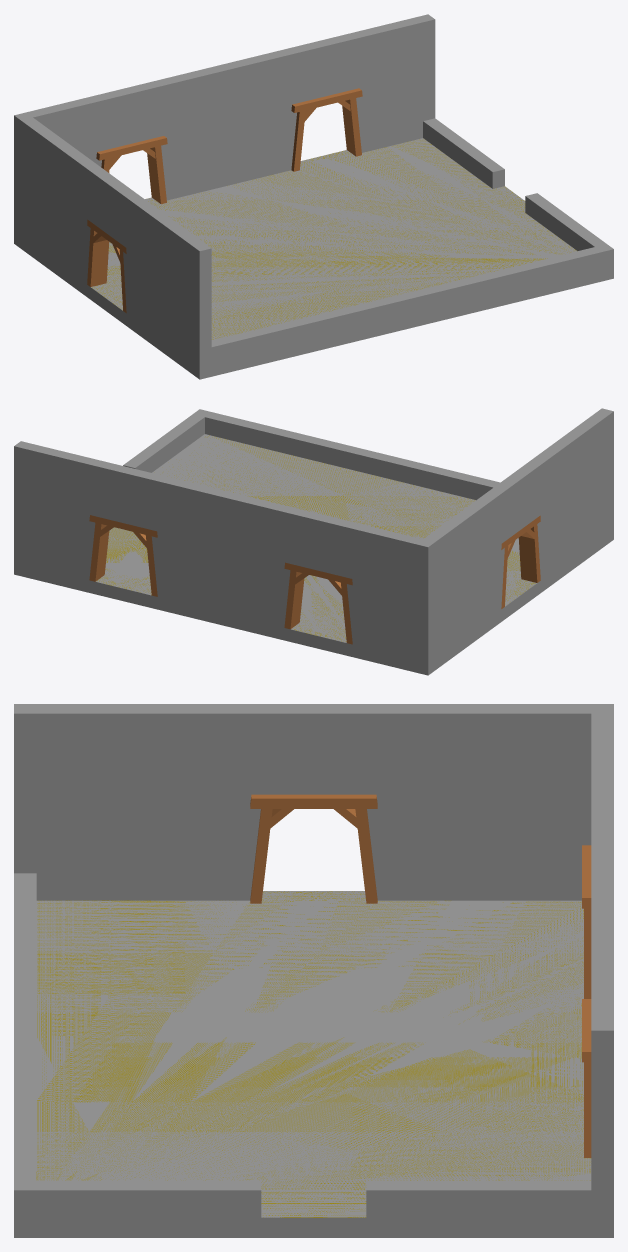
The model's file is salaMedianaTresPuertas.fbx.
The picture shows the model from 3 angles, top to bottom: view 1: azimuth 30°, elevation 25°; view 2: azimuth 150°, elevation 25°; view 3: azimuth 270°, elevation 25°; orthographic projection. The views are drawn at different scales.
Visible parts, largest first — view 1: group_1, group_2, group_4, group_3, group_0; view 2: group_1, group_2, group_4, group_3, group_0; view 3: group_2, group_1, group_0, group_4, group_3.
Boxes of the visible parts, left/top/right/bottom form: group_1: left=14, top=14, right=613, bottom=379; group_2: left=91, top=138, right=577, bottom=340; group_4: left=291, top=88, right=362, bottom=171; group_3: left=96, top=136, right=167, bottom=204; group_0: left=87, top=219, right=126, bottom=313; group_1: left=14, top=408, right=613, bottom=675; group_2: left=96, top=434, right=536, bottom=642; group_4: left=89, top=515, right=157, bottom=596; group_3: left=284, top=562, right=352, bottom=644; group_0: left=501, top=515, right=540, bottom=608; group_2: left=36, top=891, right=591, bottom=1217; group_1: left=14, top=704, right=613, bottom=1237; group_0: left=250, top=794, right=377, bottom=903; group_4: left=582, top=999, right=591, bottom=1157; group_3: left=582, top=845, right=591, bottom=998.
Bounding box in the file's own units: 2060 × 610 × 1600.
